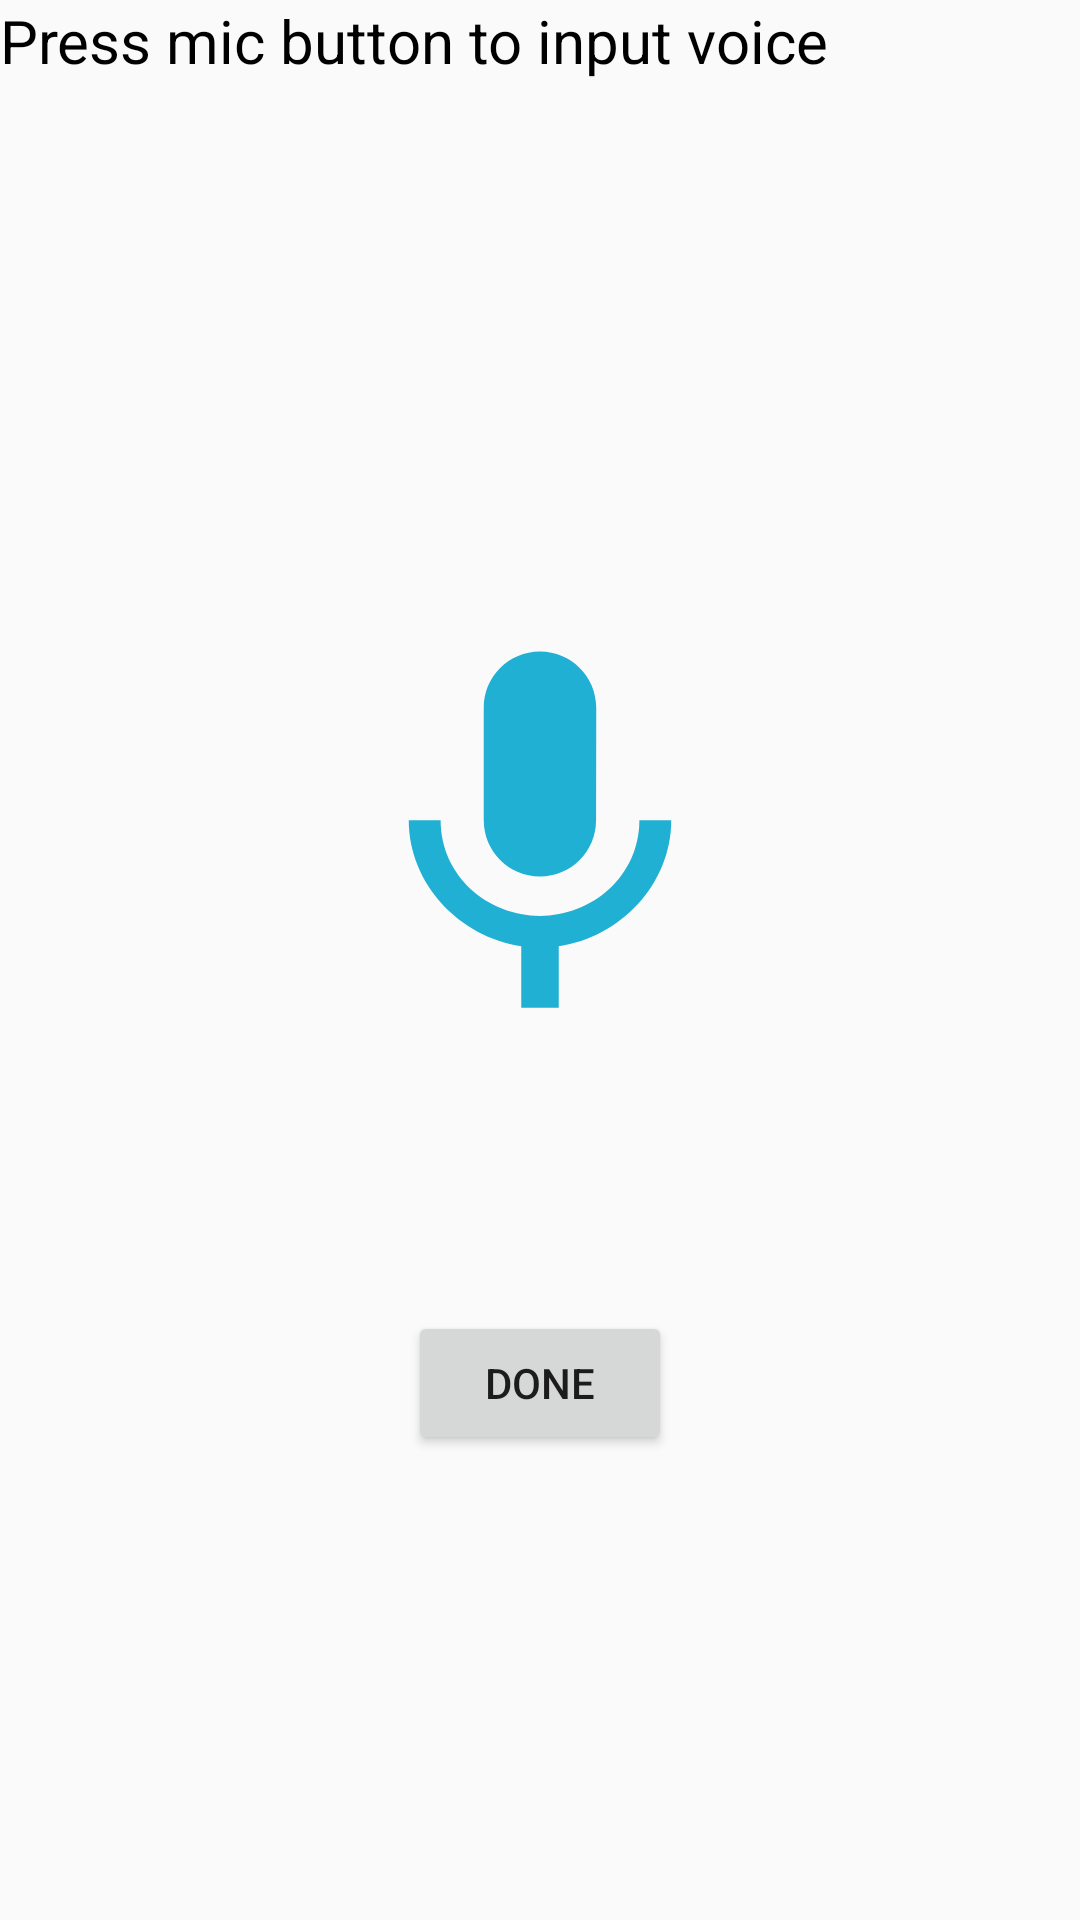

Named icons in this screenshot (1080w x 1920h) and their centers, (x=x, y=y):
mic: (x=540, y=829)
